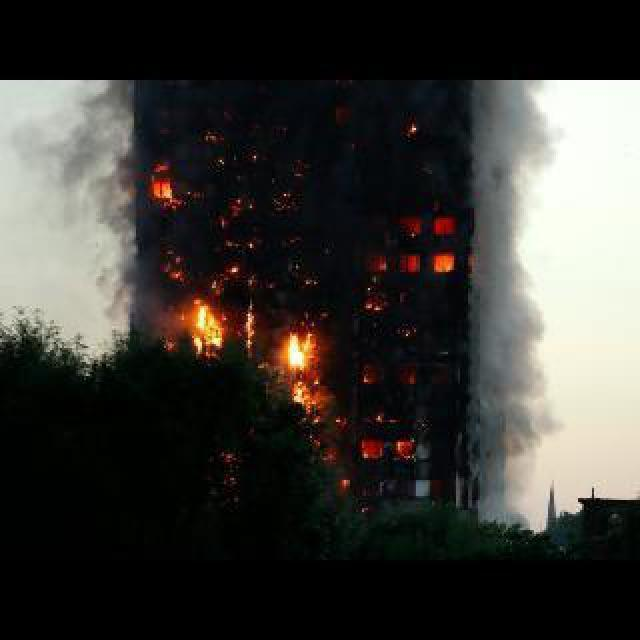Fire: (282, 318, 326, 414), (186, 284, 230, 354)
Smoke: (448, 80, 564, 474), (28, 78, 146, 270), (104, 272, 186, 348)
